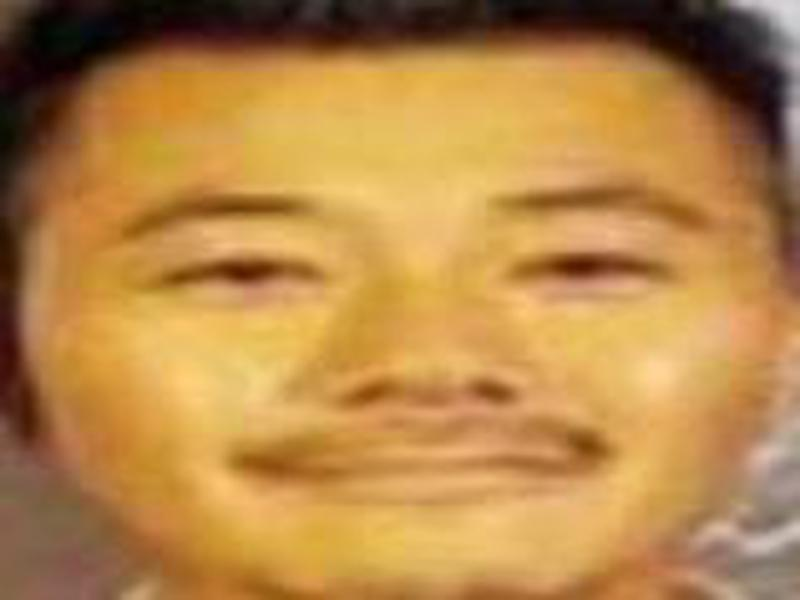without_mask: (19, 40, 785, 599)
